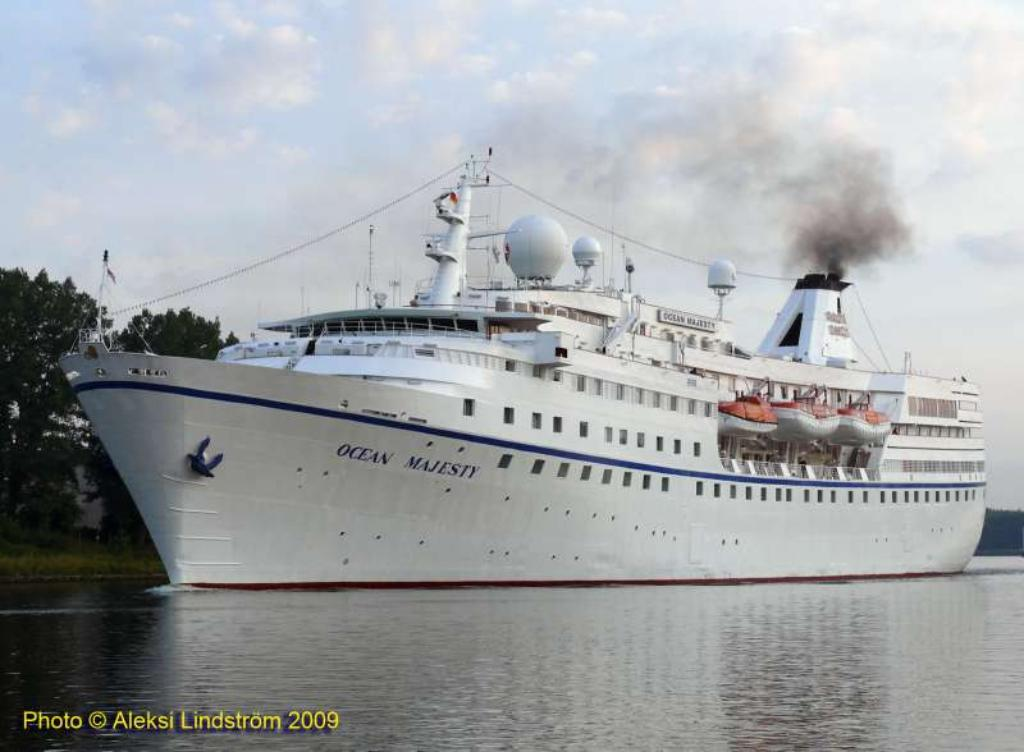PassengerShip: (46, 151, 992, 587)
